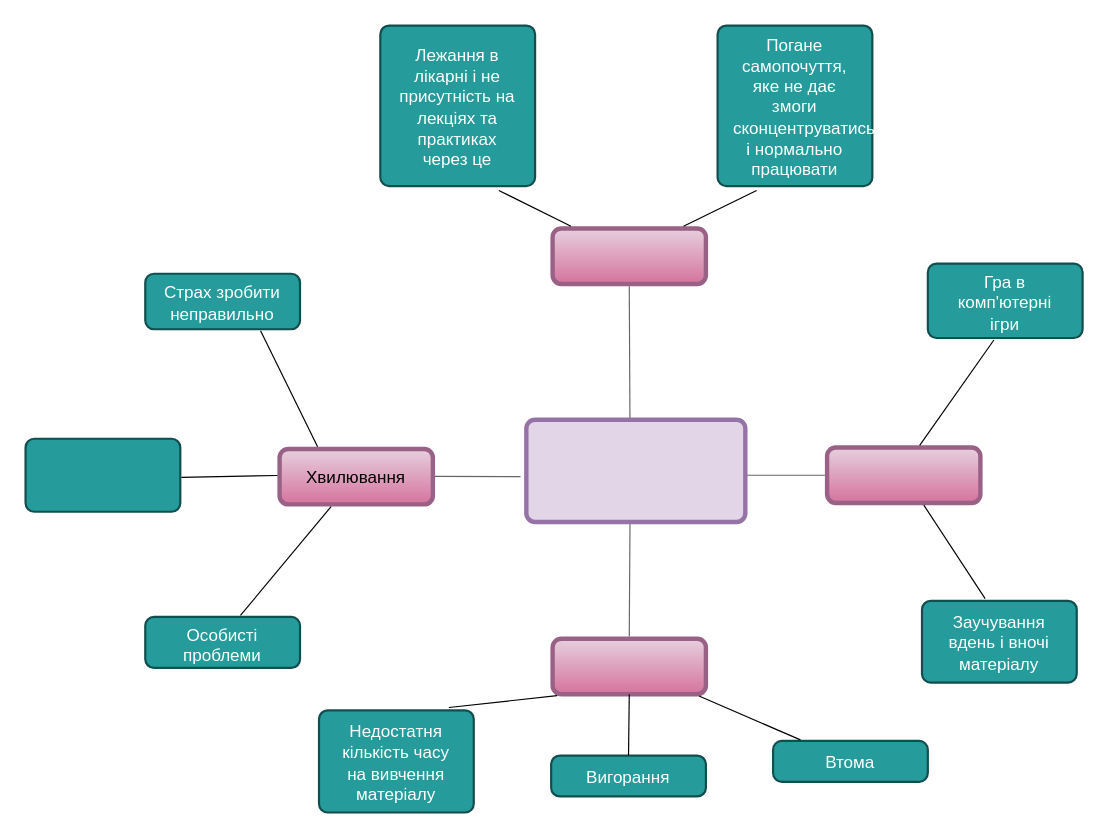
Image size: 1110x840. Some labels were removed from this diagram. The centre of each missing label's shape, as x and y in pixels:
"Недосип" belongs at [903,474].
"Причини не здачі екзамену" belongs at [635,470].
"Робота" belongs at [628,666].
"Страх не скласти і вилетіти" belongs at [102,474].
"Хвороба" belongs at [628,255].
